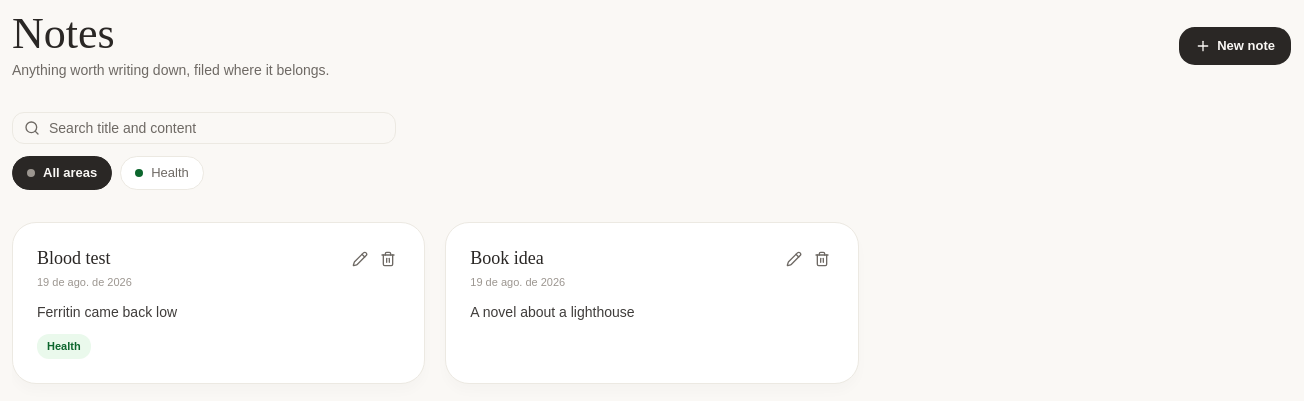
Test case: NotesPage › filters by area through the request, not in the browser
The width and height of the screenshot is (1304, 401).
Expected: the heading "Book idea" is shown, x1=470 y1=248 x2=544 y2=268
Click the button "Health": click(162, 173) x1=120 y1=156 x2=204 y2=190
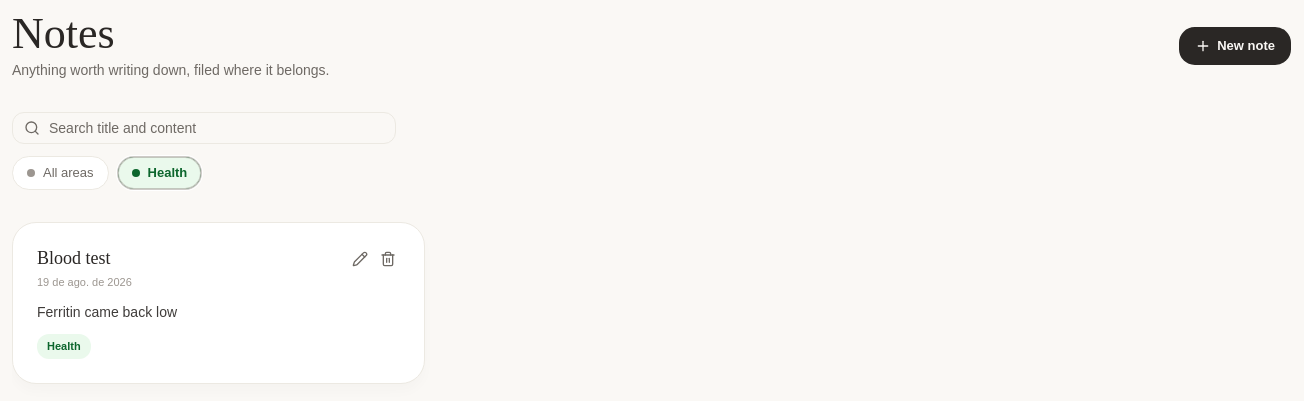
Expected: the heading "Blood test" is shown, x1=37 y1=248 x2=110 y2=268
Now the heading "Book idea" is gone
